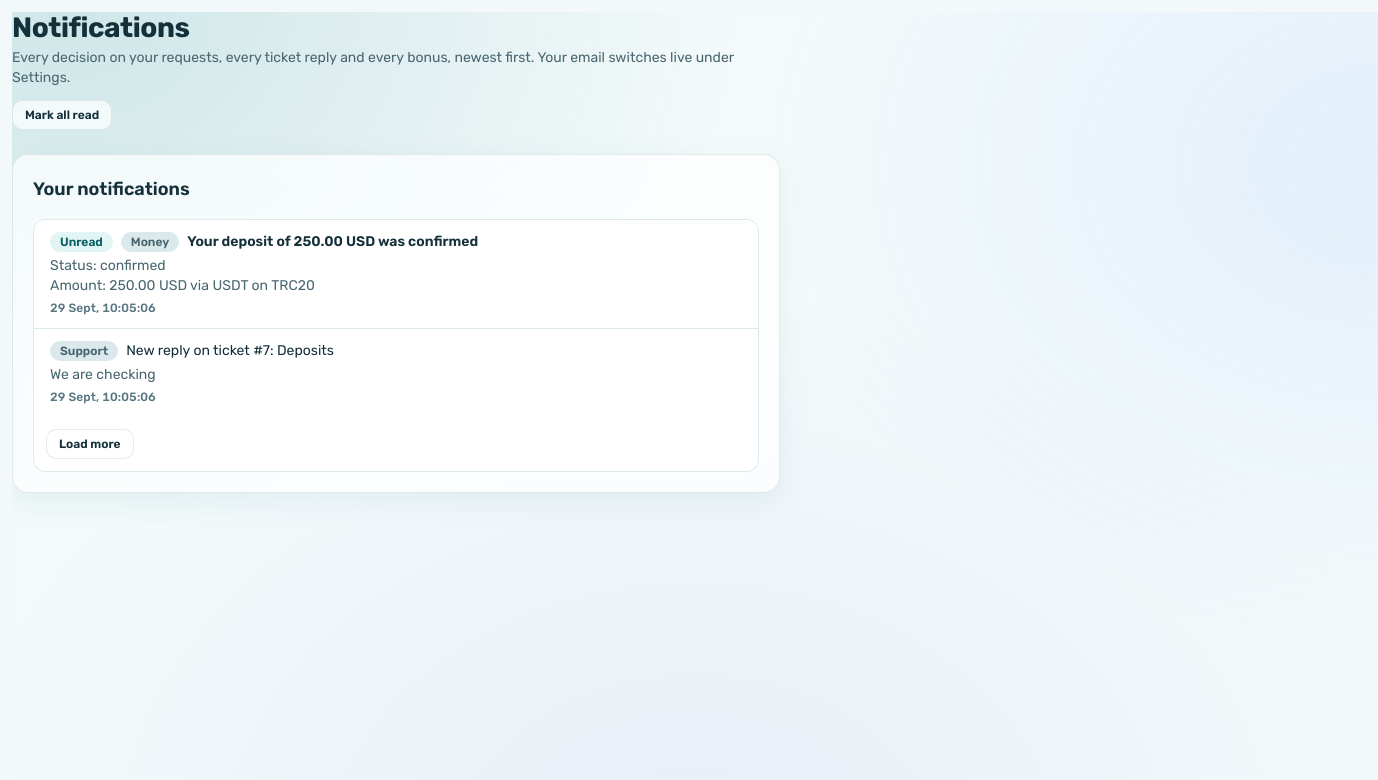
Test: lists newest first with the read state and loads more
Expected: the heading "Notifications" is shown, top-left (12, 11), bottom-right (190, 44)
Expected: the text "Your deposit of 250.00 USD was confirmed" is shown, top-left (187, 232), bottom-right (478, 252)
Click the button "Load more" at (90, 444), box top-left (46, 429), bottom-right (134, 459)
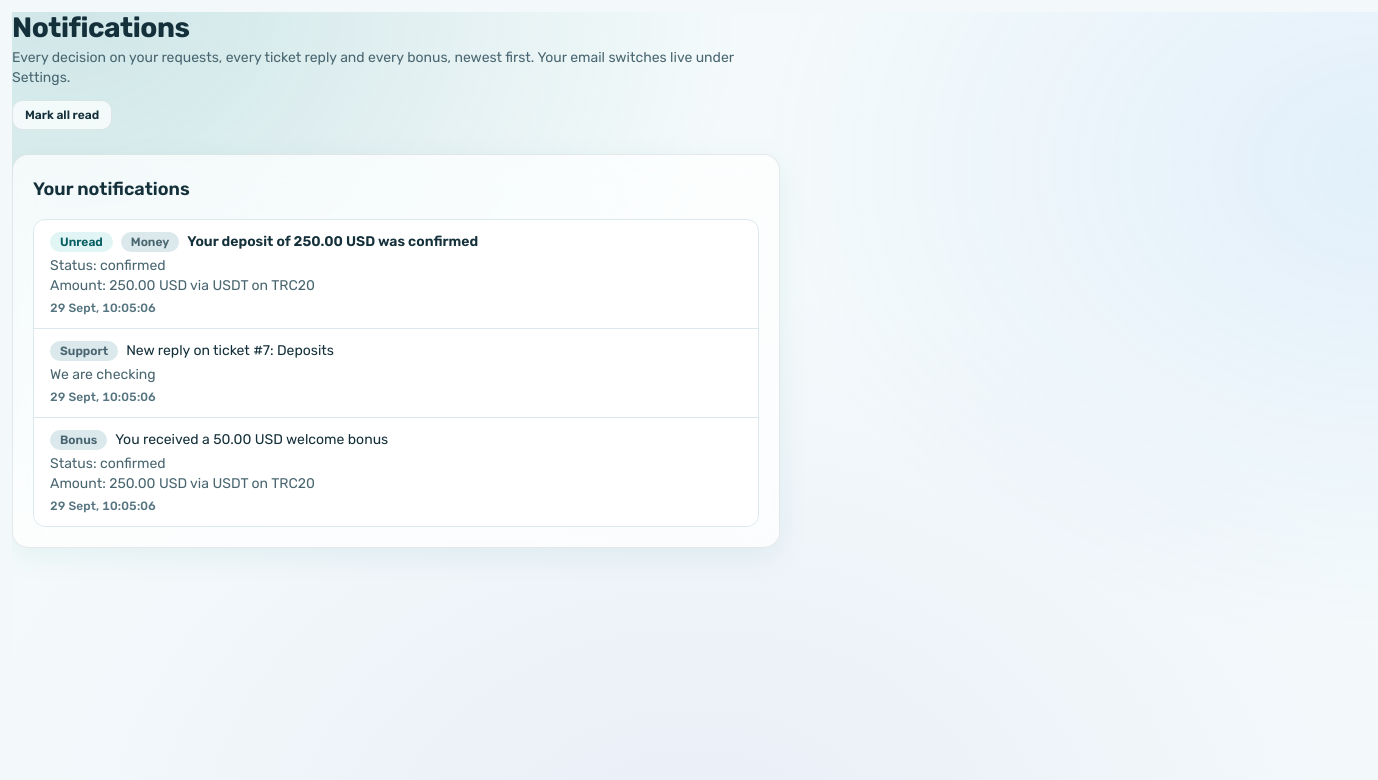
Result: the text "You received a 50.00 USD welcome bonus" is shown at top-left (115, 430), bottom-right (388, 450)
Result: the button "Load more" is gone
